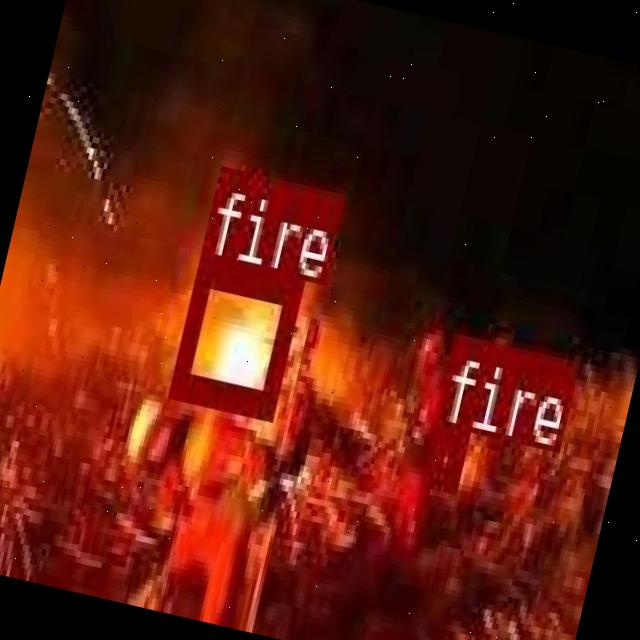fire: (169, 256, 302, 416), (420, 419, 466, 483)
